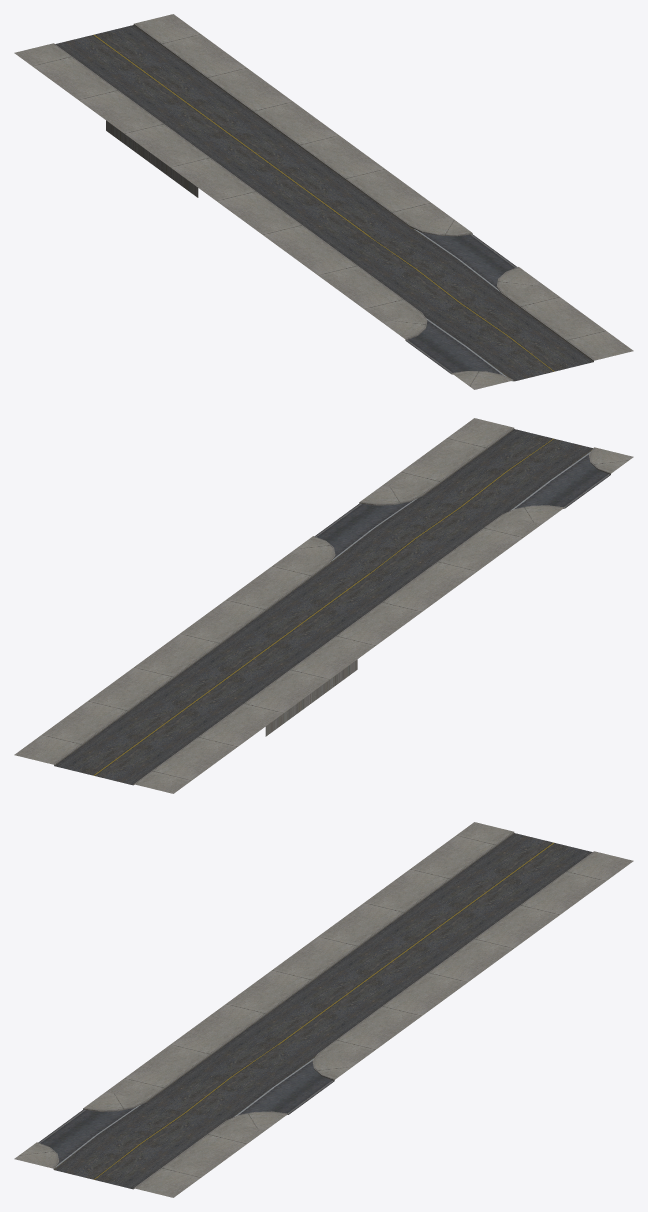
File: vegasnedge06.obj
3 views of the same model, one above another, from view 1: azimuth 30°, elevation 25°; view 2: azimuth 150°, elevation 25°; view 3: azimuth 330°, elevation 25° (orthographic).
Parts seen in each view (by area): view 1: VegasNedge06; view 2: VegasNedge06; view 3: VegasNedge06.
Part boxes in pixels (x1=…): VegasNedge06: x1=14, y1=14, x2=633, y2=389; VegasNedge06: x1=14, y1=418, x2=633, y2=793; VegasNedge06: x1=14, y1=822, x2=633, y2=1197.
Size of the model in its own units: 20.01 by 1.32 by 100.
3 materials, 3 textured.
